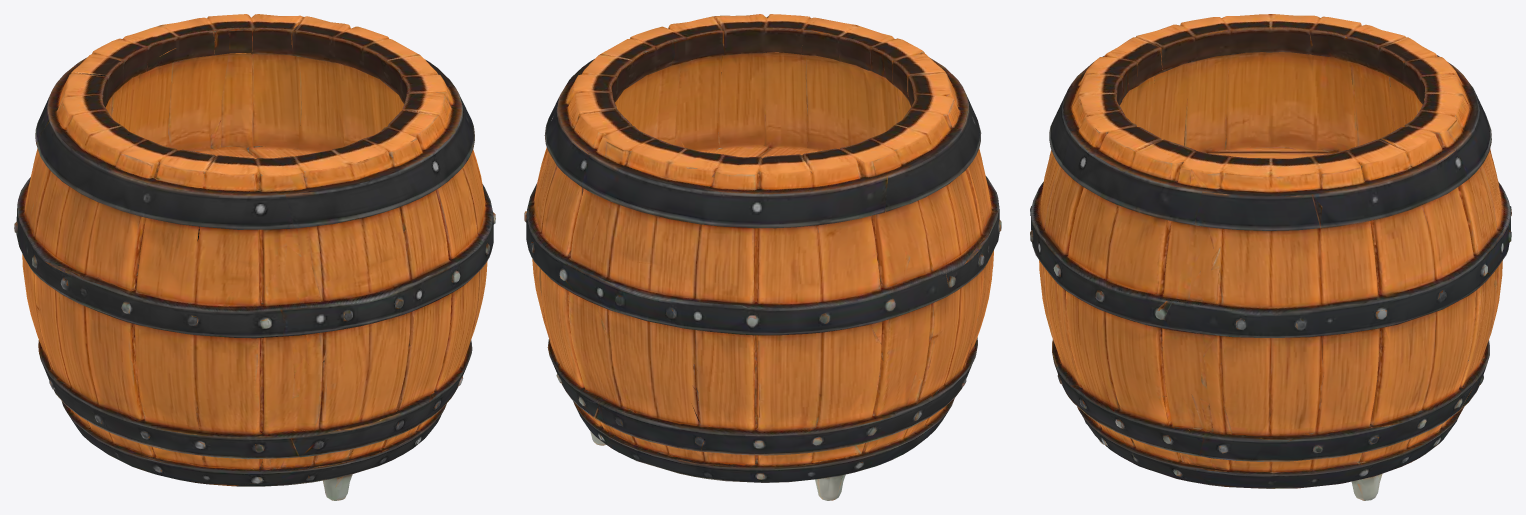
The model's file is oak_barrel.glb.
The picture shows the model from 3 angles, left to right: view 1: azimuth 30°, elevation 25°; view 2: azimuth 150°, elevation 25°; view 3: azimuth 270°, elevation 25°; orthographic projection.
Parts seen in each view (by area): view 1: Mesh1.0; view 2: Mesh1.0; view 3: Mesh1.0.
Part boxes in pixels (bbox=[...]): Mesh1.0: bbox=[14, 14, 495, 500]; Mesh1.0: bbox=[524, 14, 1001, 500]; Mesh1.0: bbox=[1030, 14, 1511, 500].
Bounding box in the file's own units: 1.9 × 1.52 × 1.9.
Materials: 1 (1 with a texture image).
